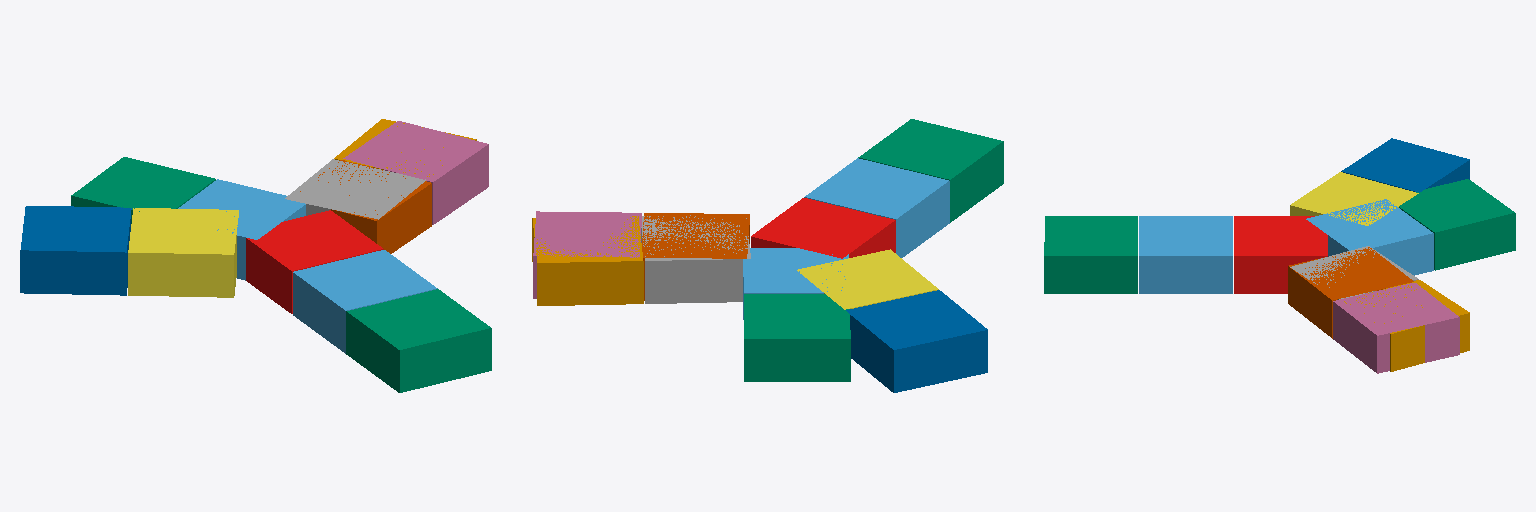
URDF robot description (Model_Models/testPiece.urdf5):
<?xml version='1.0' encoding='UTF-8'?>
<robot name="Model_Models/testPiece.urdf5">
  <link name="base_link">
    <inertial>
      <origin xyz="0.0 0.0 0.0" rpy="0.0 -0.0 0.0"/>
      <mass value="1.0"/>
      <inertia ixx="1.0" ixy="0.0" ixz="0.0" iyy="1.0" iyz="0.0" izz="1.0"/>
    </inertial>
    <visual>
      <geometry>
        <box size="0.67 0.67 0.3 "/>
      </geometry>
      <material name="red"/>
      <origin xyz="0.0 0.0 0.0" rpy="0.0 -0.0 0.0"/>
    </visual>
    <collision>
      <geometry>
        <box size="0.67 0.67 0.3 "/>
      </geometry>
      <origin xyz="0.0 0.0 0.0" rpy="0.0 0.0 0.0"/>
    </collision>
  </link>
  <link name="set0_arm1">
    <inertial>
      <origin xyz="0.0 0.34 0.0" rpy="0.0 0.0 0.0"/>
      <mass value="1.0"/>
      <inertia ixx="0.0" ixy="0.0" ixz="0.0" iyy="0.0" iyz="0.0" izz="0.0"/>
    </inertial>
    <visual>
      <geometry>
        <box size="0.67 0.67 0.3 "/>
      </geometry>
      <origin xyz="0.0 0.34 0.0" rpy="0.0 0.0 0.0"/>
    </visual>
    <collision>
      <geometry>
        <box size="0.67 0.67 0.3 "/>
      </geometry>
      <origin xyz="0.0 0.34 0.0" rpy="0.0 0.0 0.0"/>
    </collision>
  </link>
  <link name="set0_arm2">
    <inertial>
      <origin xyz="0.0 0.34 0.0" rpy="0.0 0.0 0.0"/>
      <mass value="1.0"/>
      <inertia ixx="0.0" ixy="0.0" ixz="0.0" iyy="0.0" iyz="0.0" izz="0.0"/>
    </inertial>
    <visual>
      <geometry>
        <box size="0.67 0.67 0.3 "/>
      </geometry>
      <origin xyz="0.0 0.34 0.0" rpy="0.0 0.0 0.0"/>
    </visual>
    <collision>
      <geometry>
        <box size="0.67 0.67 0.3 "/>
      </geometry>
      <origin xyz="0.0 0.34 0.0" rpy="0.0 0.0 0.0"/>
    </collision>
  </link>
  <link name="set1_arm1">
    <inertial>
      <origin xyz="0.0 0.34 0.0" rpy="0.0 0.0 0.0"/>
      <mass value="1.0"/>
      <inertia ixx="0.0" ixy="0.0" ixz="0.0" iyy="0.0" iyz="0.0" izz="0.0"/>
    </inertial>
    <visual>
      <geometry>
        <box size="0.67 0.67 0.3 "/>
      </geometry>
      <origin xyz="0.0 0.34 0.0" rpy="0.0 0.0 0.0"/>
    </visual>
    <collision>
      <geometry>
        <box size="0.67 0.67 0.3 "/>
      </geometry>
      <origin xyz="0.0 0.34 0.0" rpy="0.0 0.0 0.0"/>
    </collision>
  </link>
  <link name="set1_arm2">
    <inertial>
      <origin xyz="0.0 0.34 0.0" rpy="0.0 0.0 0.0"/>
      <mass value="1.0"/>
      <inertia ixx="0.0" ixy="0.0" ixz="0.0" iyy="0.0" iyz="0.0" izz="0.0"/>
    </inertial>
    <visual>
      <geometry>
        <box size="0.67 0.67 0.3 "/>
      </geometry>
      <origin xyz="0.0 0.34 0.0" rpy="0.0 0.0 0.0"/>
    </visual>
    <collision>
      <geometry>
        <box size="0.67 0.67 0.3 "/>
      </geometry>
      <origin xyz="0.0 0.34 0.0" rpy="0.0 0.0 0.0"/>
    </collision>
  </link>
  <link name="set2_arm1">
    <inertial>
      <origin xyz="0.0 0.34 0.0" rpy="0.0 0.0 0.0"/>
      <mass value="1.0"/>
      <inertia ixx="0.0" ixy="0.0" ixz="0.0" iyy="0.0" iyz="0.0" izz="0.0"/>
    </inertial>
    <visual>
      <geometry>
        <box size="0.67 0.67 0.3 "/>
      </geometry>
      <origin xyz="0.0 0.34 0.0" rpy="0.0 0.0 0.0"/>
    </visual>
    <collision>
      <geometry>
        <box size="0.67 0.67 0.3 "/>
      </geometry>
      <origin xyz="0.0 0.34 0.0" rpy="0.0 0.0 0.0"/>
    </collision>
  </link>
  <link name="set2_arm2">
    <inertial>
      <origin xyz="0.0 0.34 0.0" rpy="0.0 0.0 0.0"/>
      <mass value="1.0"/>
      <inertia ixx="0.0" ixy="0.0" ixz="0.0" iyy="0.0" iyz="0.0" izz="0.0"/>
    </inertial>
    <visual>
      <geometry>
        <box size="0.67 0.67 0.3 "/>
      </geometry>
      <origin xyz="0.0 0.34 0.0" rpy="0.0 0.0 0.0"/>
    </visual>
    <collision>
      <geometry>
        <box size="0.67 0.67 0.3 "/>
      </geometry>
      <origin xyz="0.0 0.34 0.0" rpy="0.0 0.0 0.0"/>
    </collision>
  </link>
  <link name="set3_arm1">
    <inertial>
      <origin xyz="0.0 0.34 0.0" rpy="0.0 0.0 0.0"/>
      <mass value="1.0"/>
      <inertia ixx="0.0" ixy="0.0" ixz="0.0" iyy="0.0" iyz="0.0" izz="0.0"/>
    </inertial>
    <visual>
      <geometry>
        <box size="0.67 0.67 0.3 "/>
      </geometry>
      <origin xyz="0.0 0.34 0.0" rpy="0.0 0.0 0.0"/>
    </visual>
    <collision>
      <geometry>
        <box size="0.67 0.67 0.3 "/>
      </geometry>
      <origin xyz="0.0 0.34 0.0" rpy="0.0 0.0 0.0"/>
    </collision>
  </link>
  <link name="set3_arm2">
    <inertial>
      <origin xyz="0.0 0.34 0.0" rpy="0.0 0.0 0.0"/>
      <mass value="1.0"/>
      <inertia ixx="0.0" ixy="0.0" ixz="0.0" iyy="0.0" iyz="0.0" izz="0.0"/>
    </inertial>
    <visual>
      <geometry>
        <box size="0.67 0.67 0.3 "/>
      </geometry>
      <origin xyz="0.0 0.34 0.0" rpy="0.0 0.0 0.0"/>
    </visual>
    <collision>
      <geometry>
        <box size="0.67 0.67 0.3 "/>
      </geometry>
      <origin xyz="0.0 0.34 0.0" rpy="0.0 0.0 0.0"/>
    </collision>
  </link>
  <link name="arm_Permutation_5_arm1">
    <inertial>
      <origin xyz="0.0 0.34 0.0" rpy="0.0 0.0 0.0"/>
      <mass value="1.0"/>
      <inertia ixx="0.0" ixy="0.0" ixz="0.0" iyy="0.0" iyz="0.0" izz="0.0"/>
    </inertial>
    <visual>
      <geometry>
        <box size="0.67 0.67 0.3 "/>
      </geometry>
      <origin xyz="0.0 0.34 0.0" rpy="0.0 0.0 0.0"/>
    </visual>
    <collision>
      <geometry>
        <box size="0.67 0.67 0.3 "/>
      </geometry>
      <origin xyz="0.0 0.34 0.0" rpy="0.0 0.0 0.0"/>
    </collision>
  </link>
  <link name="arm_Permutation_5_arm2">
    <inertial>
      <origin xyz="0.0 0.34 0.0" rpy="0.0 0.0 0.0"/>
      <mass value="1.0"/>
      <inertia ixx="0.0" ixy="0.0" ixz="0.0" iyy="0.0" iyz="0.0" izz="0.0"/>
    </inertial>
    <visual>
      <geometry>
        <box size="0.67 0.67 0.3 "/>
      </geometry>
      <origin xyz="0.0 0.34 0.0" rpy="0.0 0.0 0.0"/>
    </visual>
    <collision>
      <geometry>
        <box size="0.67 0.67 0.3 "/>
      </geometry>
      <origin xyz="0.0 0.34 0.0" rpy="0.0 0.0 0.0"/>
    </collision>
  </link>
  <joint name="set0_jointBase" type="fixed">
    <dynamics damping="0.0" friction="10.0"/>
    <limit effort="1.57" velocity="1.57" lower="-1.57" upper="1.57"/>
    <parent link="base_link"/>
    <child link="set0_arm1"/>
    <axis xyz="1. 0. 0."/>
    <origin xyz="0.0 -0.34 0.0" rpy="0.0 0.0 3.140996777702981"/>
  </joint>
  <joint name="set0_joint1" type="revolute">
    <dynamics damping="0.0" friction="10.0"/>
    <limit effort="1.57" velocity="1.57" lower="-1.57" upper="1.57"/>
    <parent link="set0_arm1"/>
    <child link="set0_arm2"/>
    <axis xyz="1. 0. 0."/>
    <origin xyz="0.0 0.68 0.0" rpy="0.0 0.0 0.0"/>
  </joint>
  <joint name="set1_jointBase" type="fixed">
    <dynamics damping="0.0" friction="10.0"/>
    <limit effort="1.57" velocity="1.57" lower="-1.57" upper="1.57"/>
    <parent link="base_link"/>
    <child link="set1_arm1"/>
    <axis xyz="1. 0. 0."/>
    <origin xyz="-0.34 0.34 0.0" rpy="0.0 0.0 0.9982080703103466"/>
  </joint>
  <joint name="set1_joint1" type="revolute">
    <dynamics damping="0.0" friction="10.0"/>
    <limit effort="1.57" velocity="1.57" lower="-1.57" upper="1.57"/>
    <parent link="set1_arm1"/>
    <child link="set1_arm2"/>
    <axis xyz="1. 0. 0."/>
    <origin xyz="0.0 0.68 0.0" rpy="0.0 0.0 0.0"/>
  </joint>
  <joint name="set2_jointBase" type="fixed">
    <dynamics damping="0.0" friction="10.0"/>
    <limit effort="1.57" velocity="1.57" lower="-1.57" upper="1.57"/>
    <parent link="base_link"/>
    <child link="set2_arm1"/>
    <axis xyz="1. 0. 0."/>
    <origin xyz="0.34 0.34 0.0" rpy="0.0 0.0 -1.0760221271669443"/>
  </joint>
  <joint name="set2_joint1" type="revolute">
    <dynamics damping="0.0" friction="10.0"/>
    <limit effort="1.57" velocity="1.57" lower="-1.57" upper="1.57"/>
    <parent link="set2_arm1"/>
    <child link="set2_arm2"/>
    <axis xyz="1. 0. 0."/>
    <origin xyz="0.0 0.68 0.0" rpy="0.0 0.0 0.0"/>
  </joint>
  <joint name="set3_jointBase" type="fixed">
    <dynamics damping="0.0" friction="10.0"/>
    <limit effort="1.57" velocity="1.57" lower="-1.57" upper="1.57"/>
    <parent link="base_link"/>
    <child link="set3_arm1"/>
    <axis xyz="1. 0. 0."/>
    <origin xyz="0.34 0.34 0.0" rpy="0.0 0.0 -1.0006509717523158"/>
  </joint>
  <joint name="set3_joint1" type="revolute">
    <dynamics damping="0.0" friction="10.0"/>
    <limit effort="1.57" velocity="1.57" lower="-1.57" upper="1.57"/>
    <parent link="set3_arm1"/>
    <child link="set3_arm2"/>
    <axis xyz="1. 0. 0."/>
    <origin xyz="0.0 0.68 0.0" rpy="0.0 0.0 0.0"/>
  </joint>
  <joint name="arm_Permutation_5_jointBase" type="fixed">
    <dynamics damping="0.0" friction="10.0"/>
    <limit effort="1.57" velocity="1.57" lower="-1.57" upper="1.57"/>
    <parent link="base_link"/>
    <child link="arm_Permutation_5_arm1"/>
    <axis xyz="1. 0. 0."/>
    <origin xyz="0.0 0.34 0.0" rpy="0.0 0.0 0.53"/>
  </joint>
  <joint name="arm_Permutation_5_joint1" type="revolute">
    <dynamics damping="0.0" friction="10.0"/>
    <limit effort="1.57" velocity="1.57" lower="-1.57" upper="1.57"/>
    <parent link="arm_Permutation_5_arm1"/>
    <child link="arm_Permutation_5_arm2"/>
    <axis xyz="1. 0. 0."/>
    <origin xyz="0.0 0.68 0.0" rpy="0.0 0.0 0.0"/>
  </joint>
  <material name="red">
    <color rgba="0.969 0.129 0.122 1.   "/>
  </material>
</robot>

--- Facts derived from the render (not from the file) ---
Views: 3 orthographic renders of the robot side by side, from view 1: azimuth 30°, elevation 25°; view 2: azimuth 150°, elevation 25°; view 3: azimuth 270°, elevation 25°.
Robot: Model_Models/testPiece.urdf5 — 11 links, 10 joints (5 revolute, 5 fixed); root link base_link; default pose: every joint at zero.
Visible links, largest first — view 1: set0_arm2, set1_arm2, set1_arm1, set2_arm2, set0_arm1, base_link, arm_Permutation_5_arm2, set3_arm1, arm_Permutation_5_arm1, set2_arm1, set3_arm2; view 2: set1_arm2, arm_Permutation_5_arm2, set0_arm2, set0_arm1, set3_arm2, base_link, set3_arm1, set1_arm1, set2_arm2, set2_arm1, arm_Permutation_5_arm1; view 3: set0_arm1, set0_arm2, set2_arm2, arm_Permutation_5_arm2, base_link, arm_Permutation_5_arm1, set2_arm1, set1_arm2, set1_arm1, set3_arm2, set3_arm1.
Boxes of the visible links, bbox=[...] form: set0_arm2: bbox=[346, 289, 491, 392]; set1_arm2: bbox=[20, 206, 131, 295]; set1_arm1: bbox=[128, 208, 238, 297]; set2_arm2: bbox=[343, 121, 488, 224]; set0_arm1: bbox=[293, 250, 437, 353]; base_link: bbox=[246, 210, 383, 313]; arm_Permutation_5_arm2: bbox=[71, 157, 215, 223]; set3_arm1: bbox=[285, 159, 425, 219]; arm_Permutation_5_arm1: bbox=[178, 179, 305, 280]; set2_arm1: bbox=[300, 160, 431, 253]; set3_arm2: bbox=[334, 119, 476, 176]; set1_arm2: bbox=[846, 290, 987, 392]; arm_Permutation_5_arm2: bbox=[744, 294, 850, 381]; set0_arm2: bbox=[858, 119, 1003, 222]; set0_arm1: bbox=[804, 158, 949, 257]; set3_arm2: bbox=[532, 216, 643, 305]; base_link: bbox=[751, 198, 895, 258]; set3_arm1: bbox=[641, 215, 750, 303]; set1_arm1: bbox=[797, 249, 938, 309]; set2_arm2: bbox=[533, 211, 641, 298]; set2_arm1: bbox=[642, 213, 749, 300]; arm_Permutation_5_arm1: bbox=[743, 248, 848, 319]; set0_arm1: bbox=[1139, 216, 1232, 293]; set0_arm2: bbox=[1044, 216, 1137, 293]; set2_arm2: bbox=[1333, 283, 1459, 373]; arm_Permutation_5_arm2: bbox=[1399, 179, 1515, 270]; base_link: bbox=[1234, 216, 1327, 293]; arm_Permutation_5_arm1: bbox=[1306, 199, 1433, 275]; set2_arm1: bbox=[1288, 247, 1413, 338]; set1_arm2: bbox=[1341, 138, 1469, 192]; set1_arm1: bbox=[1290, 172, 1418, 225]; set3_arm2: bbox=[1344, 280, 1469, 371]; set3_arm1: bbox=[1290, 246, 1418, 299].
Bounding box of the posed robot: 3.35 × 3.37 × 0.3 m (x, y, z).
Geometry: primitives only (box / cylinder / sphere), no mesh files.